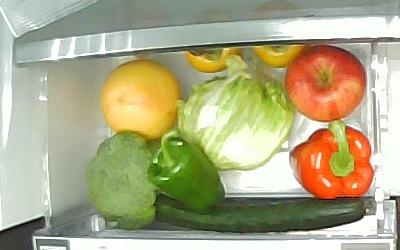apple: (285, 45, 367, 122)
broccoli: (86, 130, 156, 231)
cucumber: (153, 190, 372, 235)
grapefruit: (99, 60, 181, 142)
lettuce: (173, 53, 296, 172)
paprika: (289, 120, 375, 199), (147, 130, 226, 214)
persimmon: (183, 46, 244, 73), (251, 45, 305, 67)
